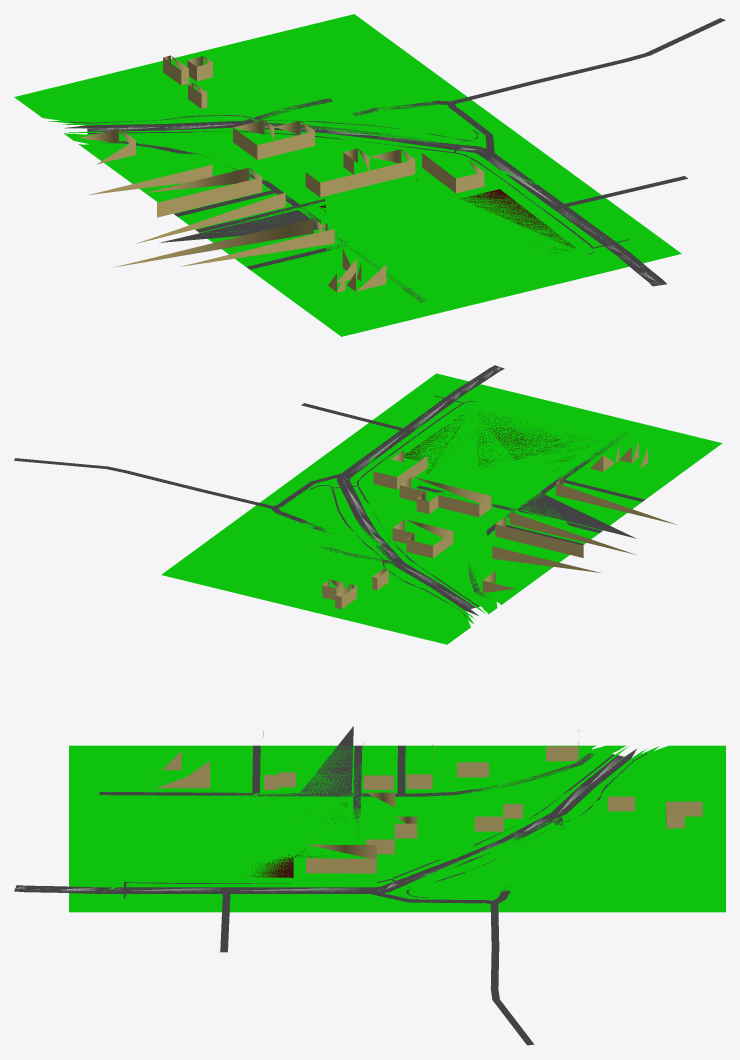
3 views of the same model, one above another, from view 1: azimuth 30°, elevation 25°; view 2: azimuth 150°, elevation 25°; view 3: azimuth 270°, elevation 25° (orthographic). The views are drawn at different scales.
Size of the model in its own units: 386 by 10 by 325.
